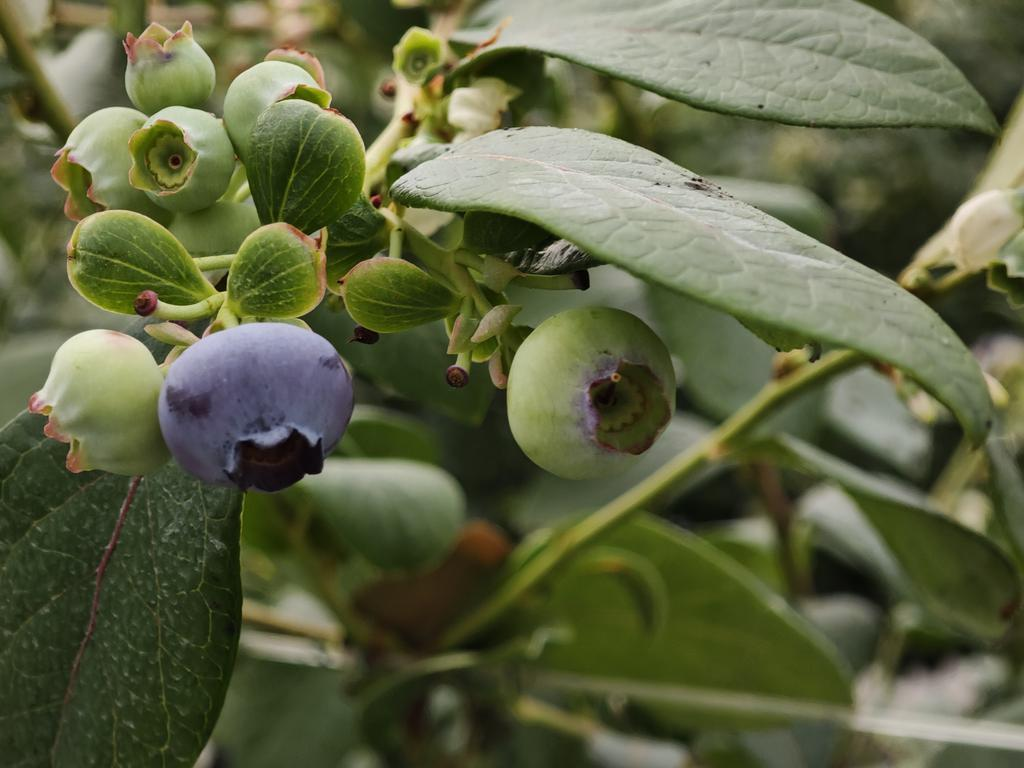RipeBlueBerry: (159, 322, 355, 491)
UnripeBlueBerry: (505, 305, 677, 483), (34, 328, 161, 478)
